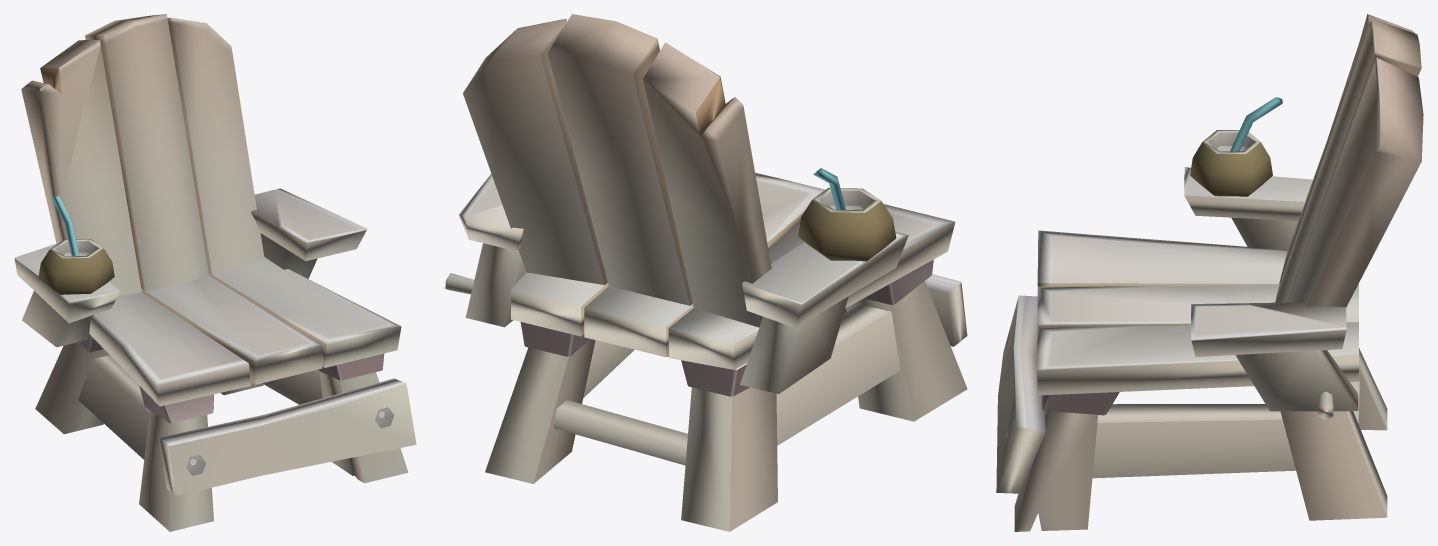
The model's file is LifeGuardChair_16.glb.
3 views of the same model, side by side, from view 1: azimuth 30°, elevation 25°; view 2: azimuth 150°, elevation 25°; view 3: azimuth 270°, elevation 25° (orthographic). The views are drawn at different scales.
Parts seen in each view (by area): view 1: LifeGuardChair; view 2: LifeGuardChair; view 3: LifeGuardChair.
Part boxes in pixels (box(x1,y1,x2,y2)): LifeGuardChair: box(14, 14, 416, 531); LifeGuardChair: box(445, 14, 967, 531); LifeGuardChair: box(996, 14, 1423, 531).
Size of the model in its own units: 0.4775 by 0.5557 by 0.4952.
